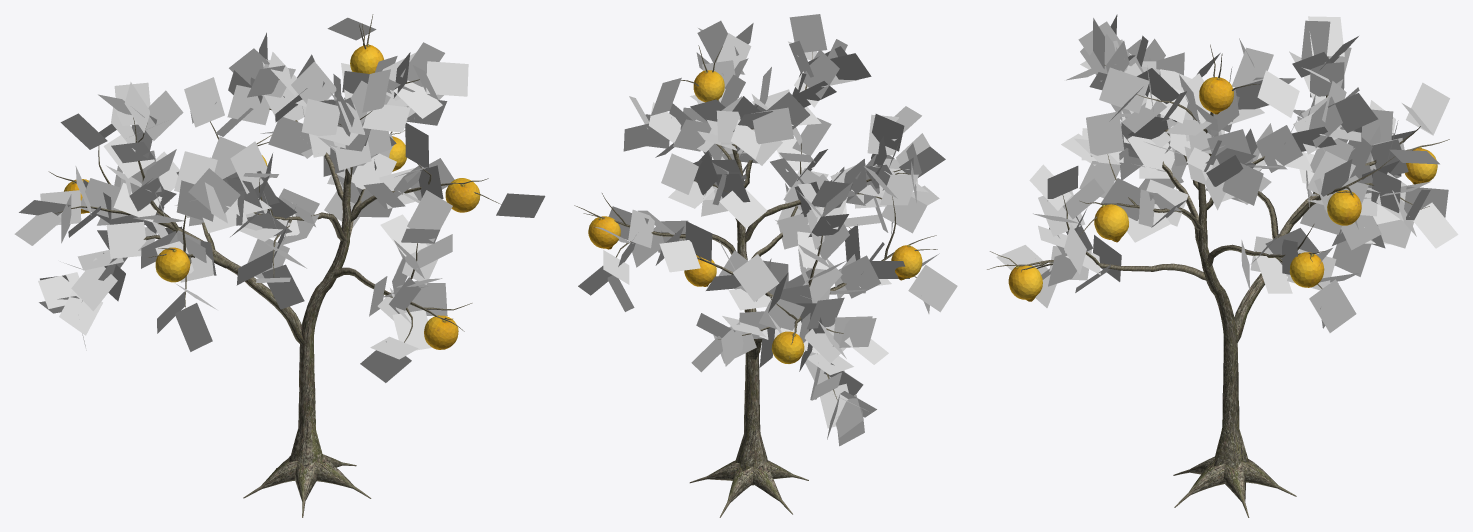
Rendered from Better_Tree_Alone_IFSUPPORTED.fbx.
3 renders of one model, left to right at view 1: azimuth 30°, elevation 25°; view 2: azimuth 150°, elevation 25°; view 3: azimuth 270°, elevation 25°, orthographic. The views are drawn at different scales.
Visible parts, largest first — view 1: structure.008; view 2: structure.008; view 3: structure.008.
Part boxes in pixels (bbox=[...]): structure.008: bbox=[14, 14, 545, 517]; structure.008: bbox=[574, 14, 957, 517]; structure.008: bbox=[987, 14, 1458, 517].
Bounding box in the file's own units: 102 × 125 × 112.
